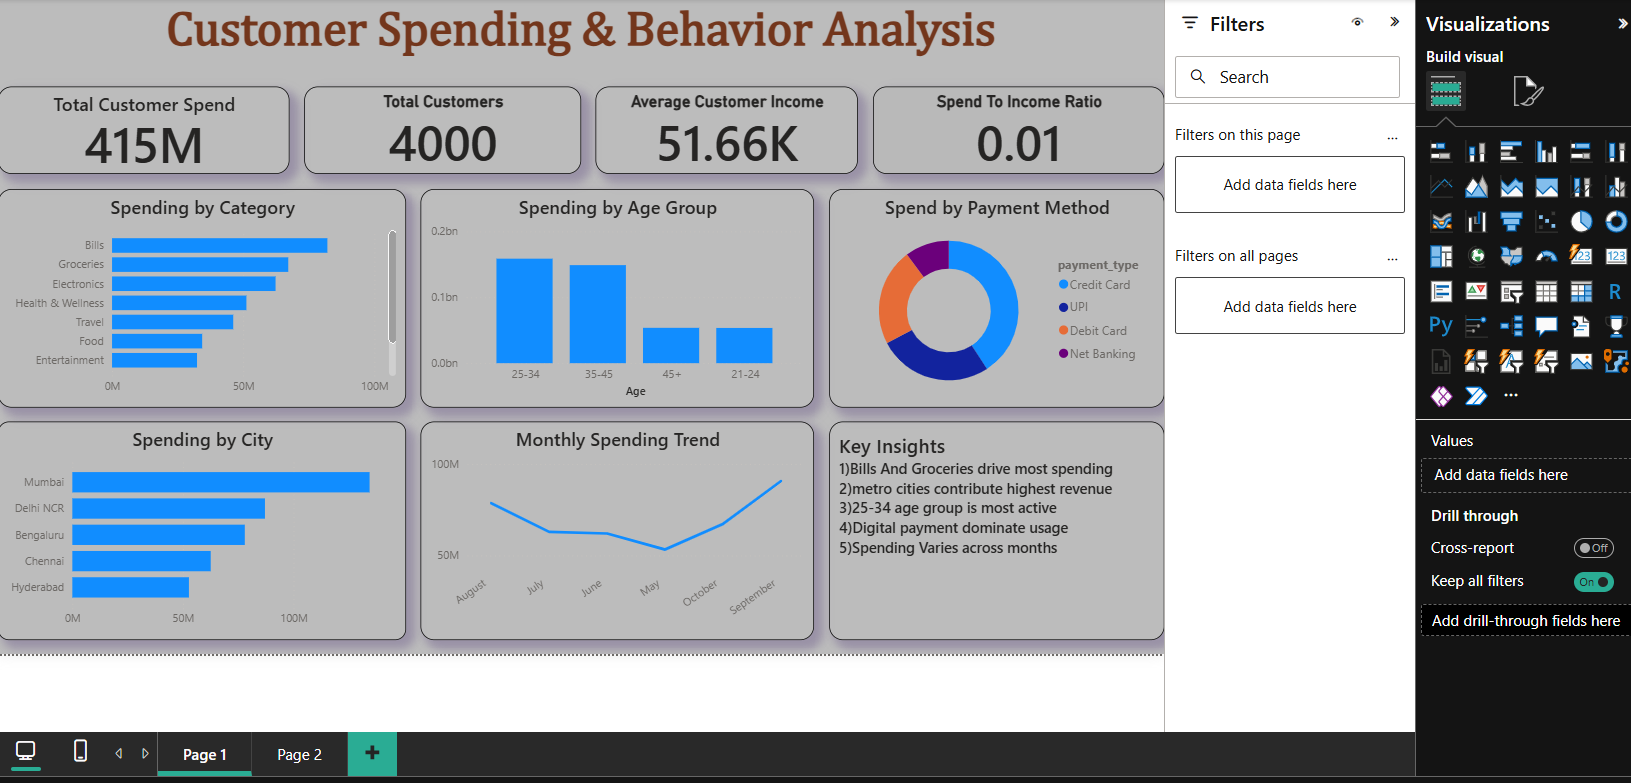

Layout of this report page (visuals, bound fields, positions):
{"tool":"powerbi","page":{"name":"Page 1","canvas":[1280,720],"ordinal":0},"visuals":[{"type":"card","title":"Total Customer Spend","fields":{"Values":["data.Total Spend"]},"box":[0,96,320,96],"z":0},{"type":"card","title":"Total Customers","fields":{"Values":["data.Total Customers"]},"box":[336,96,304,96],"z":1000},{"type":"card","title":"Average Customer Income","fields":{"Values":["data.Avg Income"]},"box":[656,96,288,96],"z":2000},{"type":"card","title":"Spend To Income Ratio","fields":{"Values":["data.Spend Ratio"]},"box":[960,96,320,96],"z":3000},{"type":"clusteredBarChart","title":"Spending by Category","fields":{"Category":["data.category"],"Y":["Sum(data.spend)"]},"box":[0,208,448,240],"z":4000},{"type":"clusteredBarChart","title":"Spending by City","fields":{"Category":["data.city"],"Y":["Sum(data.spend)"]},"box":[0,464,448,240],"z":5000},{"type":"clusteredColumnChart","title":"Spending by Age Group","fields":{"Category":["data.age_group"],"Y":["Sum(data.spend)"]},"box":[464,208,432,240],"z":6000},{"type":"donutChart","title":"Spend by Payment Method","fields":{"Category":["data.payment_type"],"Y":["Sum(data.spend)"]},"box":[912,208,368,240],"z":7000},{"type":"textbox","box":[0,0,1280,96],"z":8000},{"type":"lineChart","title":"Monthly Spending Trend","fields":{"Category":["data.month"],"Y":["Sum(data.spend)"]},"box":[464,464,432,240],"z":9000},{"type":"textbox","box":[912,464,368,240],"z":10000}]}

Visuals, with their boxes on the page's 1280x720 design canvas (x1, y1, x2, y2). These are canvas units, not pixel positions in the 1631x783 screenshot, which may show the page scaled, cropped or inside an application window:
"Total Customer Spend" card: BBox(0, 96, 320, 192)
"Total Customers" card: BBox(336, 96, 640, 192)
"Average Customer Income" card: BBox(656, 96, 944, 192)
"Spend To Income Ratio" card: BBox(960, 96, 1280, 192)
"Spending by Category" clusteredBarChart: BBox(0, 208, 448, 448)
"Spending by City" clusteredBarChart: BBox(0, 464, 448, 704)
"Spending by Age Group" clusteredColumnChart: BBox(464, 208, 896, 448)
"Spend by Payment Method" donutChart: BBox(912, 208, 1280, 448)
textbox: BBox(0, 0, 1280, 96)
"Monthly Spending Trend" lineChart: BBox(464, 464, 896, 704)
textbox: BBox(912, 464, 1280, 704)
